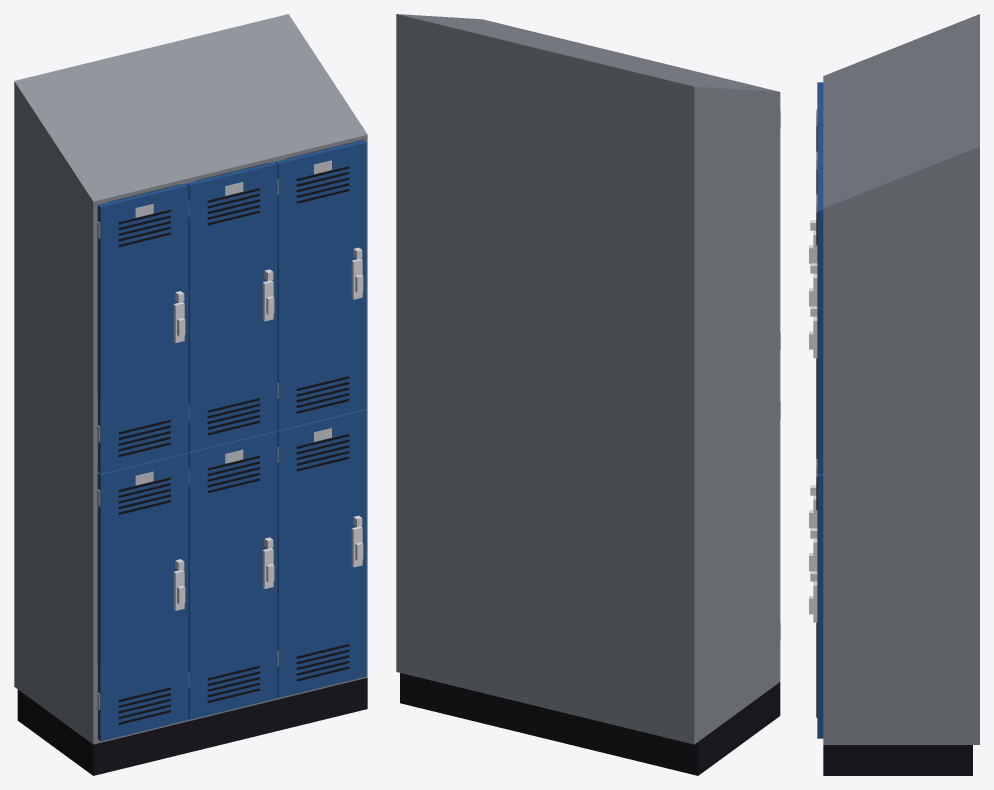
File: 094_student_locker_bank_3_wide_2_tier.glb
The picture shows the model from 3 angles, left to right: view 1: azimuth 30°, elevation 25°; view 2: azimuth 150°, elevation 25°; view 3: azimuth 270°, elevation 25°; orthographic projection. The views are drawn at different scales.
Parts seen in each view (by area): view 1: 001_carcass_side_l, 063_sloped_top, 036_door_4, 009_door_1, 045_door_5, 054_door_6, 018_door_2, 027_door_3, 000_base, 028_door_3_louvres_10, 055_door_6_louvres_10, 037_door_4_louvres_10 (+6 smaller); view 2: 005_carcass_back_panel, 001_carcass_side_l, 063_sloped_top, 000_base, 002_carcass_side_r, 003_carcass_top; view 3: 002_carcass_side_r, 063_sloped_top, 000_base, 054_door_6, 027_door_3.
Part boxes in pixels (x1=…): 001_carcass_side_l: x1=14, y1=144, x2=96, y2=744; 063_sloped_top: x1=14, y1=14, x2=367, y2=201; 036_door_4: x1=97, y1=183, x2=188, y2=473; 009_door_1: x1=97, y1=452, x2=188, y2=741; 045_door_5: x1=186, y1=162, x2=277, y2=451; 054_door_6: x1=275, y1=140, x2=366, y2=429; 018_door_2: x1=187, y1=431, x2=277, y2=719; 027_door_3: x1=277, y1=409, x2=366, y2=697; 000_base: x1=17, y1=677, x2=367, y2=775; 028_door_3_louvres_10: x1=296, y1=434, x2=349, y2=681; 055_door_6_louvres_10: x1=296, y1=166, x2=349, y2=413; 037_door_4_louvres_10: x1=118, y1=209, x2=170, y2=456; 005_carcass_back_panel: x1=400, y1=87, x2=690, y2=743; 001_carcass_side_l: x1=690, y1=92, x2=780, y2=744; 063_sloped_top: x1=396, y1=14, x2=779, y2=154; 000_base: x1=400, y1=673, x2=780, y2=775; 002_carcass_side_r: x1=396, y1=82, x2=400, y2=672; 003_carcass_top: x1=396, y1=83, x2=776, y2=157; 002_carcass_side_r: x1=823, y1=208, x2=979, y2=744; 063_sloped_top: x1=823, y1=14, x2=979, y2=208; 000_base: x1=823, y1=745, x2=972, y2=775; 054_door_6: x1=817, y1=168, x2=823, y2=473; 027_door_3: x1=817, y1=474, x2=823, y2=738.
Size of the model in its own units: 0.915 by 2.03 by 0.499.
